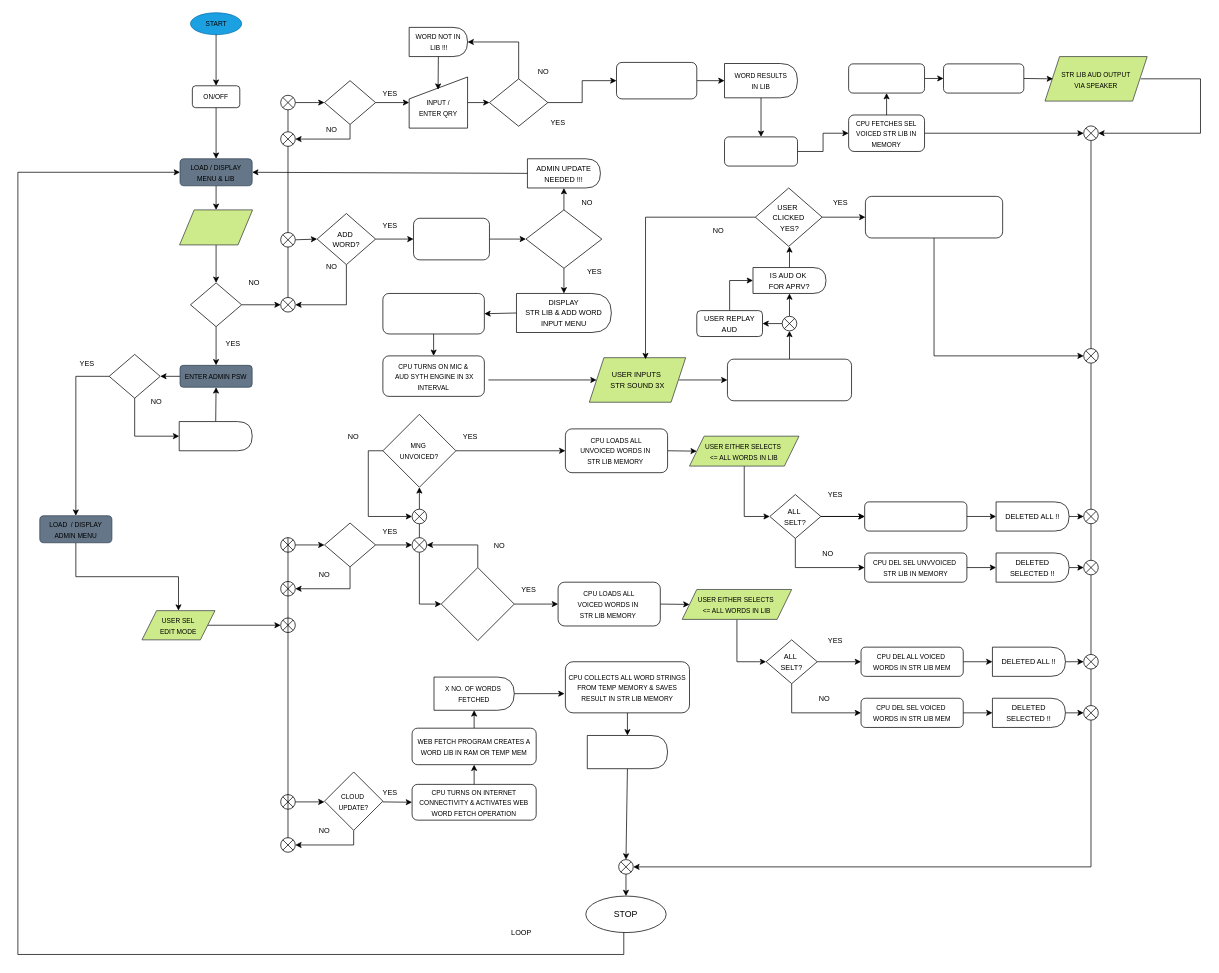
Image size: 1219x973. Some labels were removed from this diagram. Each missing label, with the box of its shape:
ADMIN CNTR?: (190, 282, 242, 327)
AUD SYNTH CAPTURES 3 AUD WAVE VARIANTS FOR STR: (727, 358, 852, 401)
CPU DEL ALL UNVOICED STR LIB IN MEMORY: (864, 501, 967, 531)
CPU KEYS SOUND PATR WITH STR LIB & SAVES IN STR LIB MEMORY: (865, 196, 1003, 238)
CPU LOADS QRY RESULTS FROM VOICED/STR LIB: (616, 62, 697, 99)
CPU LOADS SRT AUD FROM AUD MEMORY: (943, 63, 1024, 93)
FETCH & DISPLAY UNVOICED STR: (413, 218, 489, 260)
MNG LIB?: (324, 522, 376, 567)
MNG VOICED?: (441, 567, 514, 641)
PASSWORD ERROR!: (178, 421, 252, 451)
PSW TRUE?: (108, 354, 160, 398)
UNVOICED PRESENT?: (525, 209, 602, 268)
USER CLICKS ON PLAY WORD AUD: (848, 63, 925, 93)
USER SEL 1X QRY RESULT: (724, 136, 798, 166)
USER SEL CNTR MODE: (179, 209, 253, 245)
USER SELECTS WORD TO VOICE & ACTIVATES INPUT SOUND FUNC: (382, 293, 484, 334)
WORD IN LIB?: (489, 78, 548, 126)
WORD QRY?: (324, 80, 376, 124)
X NO. OF UNVOICED WORDS SAVED: (587, 735, 668, 769)
